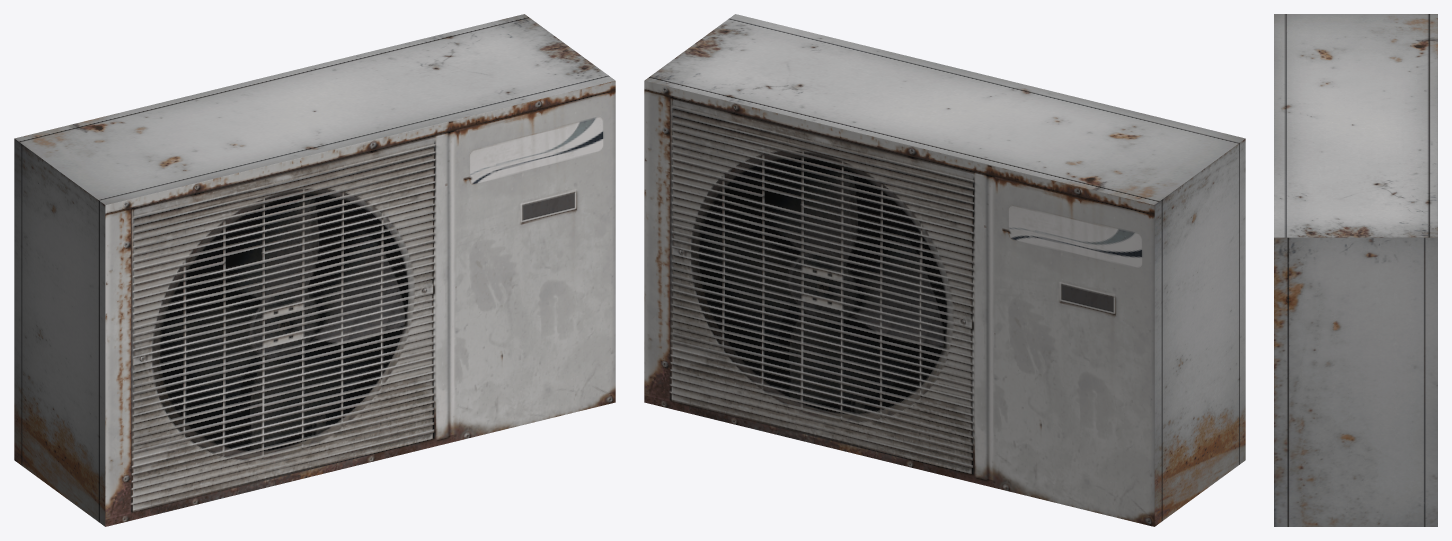
File: Air_01.fbx
3 views of the same model, side by side, from view 1: azimuth 30°, elevation 25°; view 2: azimuth 150°, elevation 25°; view 3: azimuth 270°, elevation 25° (orthographic). The views are drawn at different scales.
Parts seen in each view (by area): view 1: Air_01; view 2: Air_01; view 3: Air_01.
Part boxes in pixels (x1,y1,x2,y2): Air_01: [14, 14, 615, 526]; Air_01: [644, 14, 1245, 526]; Air_01: [1274, 14, 1437, 526].
Bounding box in the file's own units: 106 × 32.91 × 64.12.
1 material, 1 textured.
